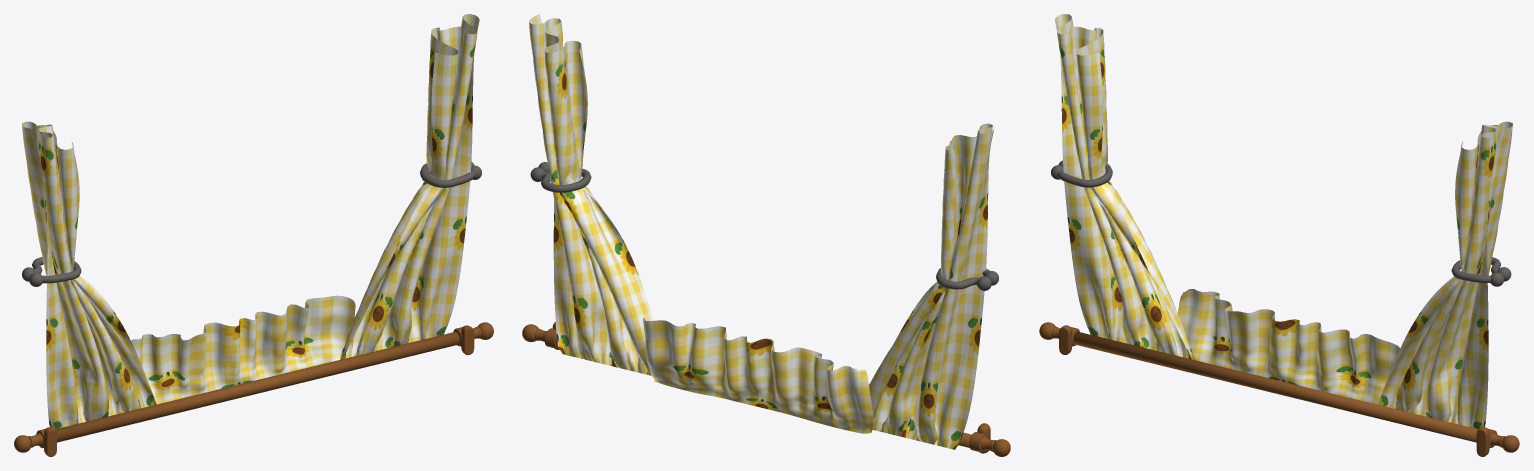
File: Cortina_blender3_byabiartpro.fbx
3 views of the same model, side by side, from view 1: azimuth 30°, elevation 25°; view 2: azimuth 150°, elevation 25°; view 3: azimuth 330°, elevation 25° (orthographic).
Visible parts, largest first — view 1: Cortina; view 2: Cortina; view 3: Cortina.
Boxes of the visible parts, x1,y1,x2,y2 form: Cortina: (14, 14, 493, 456); Cortina: (522, 14, 1010, 456); Cortina: (1039, 14, 1519, 456).
Size of the model in its own units: 277 by 32.49 by 182.
